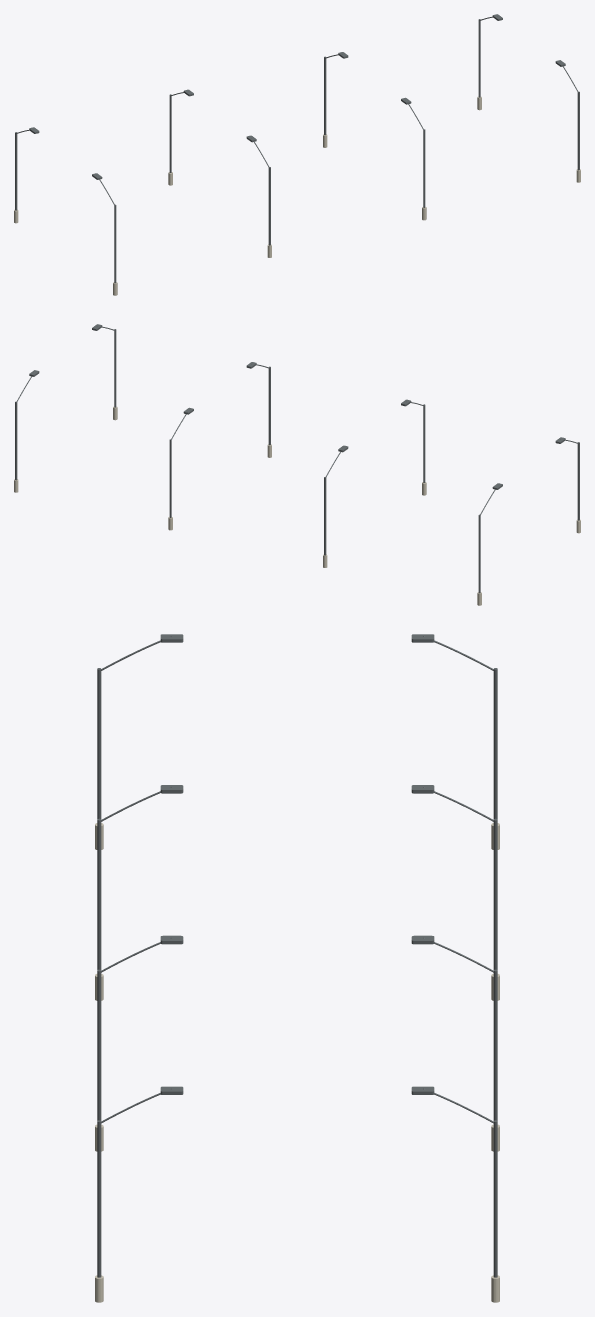
3 views of the same model, one above another, from view 1: azimuth 30°, elevation 25°; view 2: azimuth 150°, elevation 25°; view 3: azimuth 270°, elevation 25° (orthographic). The views are drawn at different scales.
Parts seen in each view (by area): view 1: buildings_s_-10_-6_Dark_Metal, buildings_s_-10_-6_Warm_Limestone; view 2: buildings_s_-10_-6_Dark_Metal, buildings_s_-10_-6_Warm_Limestone; view 3: buildings_s_-10_-6_Dark_Metal, buildings_s_-10_-6_Warm_Limestone.
Part boxes in pixels (box(x1,y1,x2,y2)): buildings_s_-10_-6_Dark_Metal: box(15, 14, 579, 283); buildings_s_-10_-6_Warm_Limestone: box(14, 96, 580, 295); buildings_s_-10_-6_Dark_Metal: box(15, 324, 579, 593); buildings_s_-10_-6_Warm_Limestone: box(14, 406, 580, 605); buildings_s_-10_-6_Dark_Metal: box(97, 634, 497, 1277); buildings_s_-10_-6_Warm_Limestone: box(95, 823, 499, 1302).
Size of the model in its own units: 81.9 by 17.75 by 30.67.
